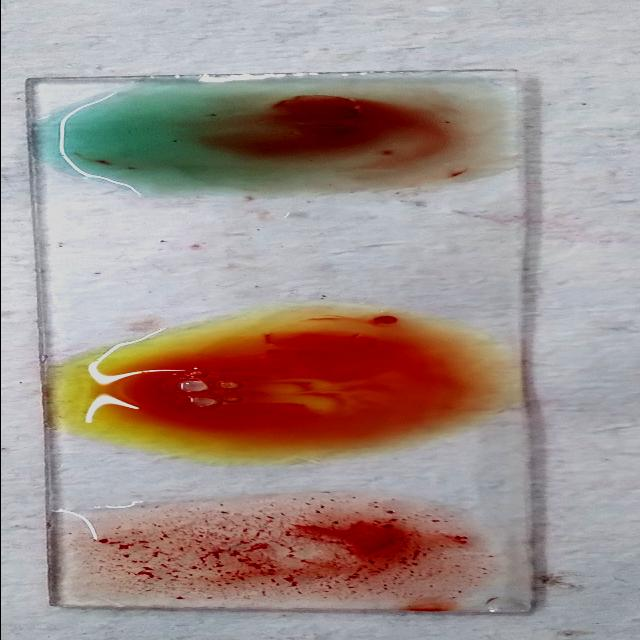D: (76, 498, 482, 602)
